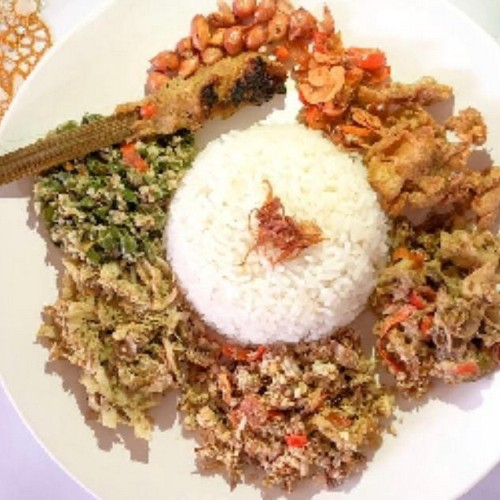lawar: (48, 166, 167, 391)
